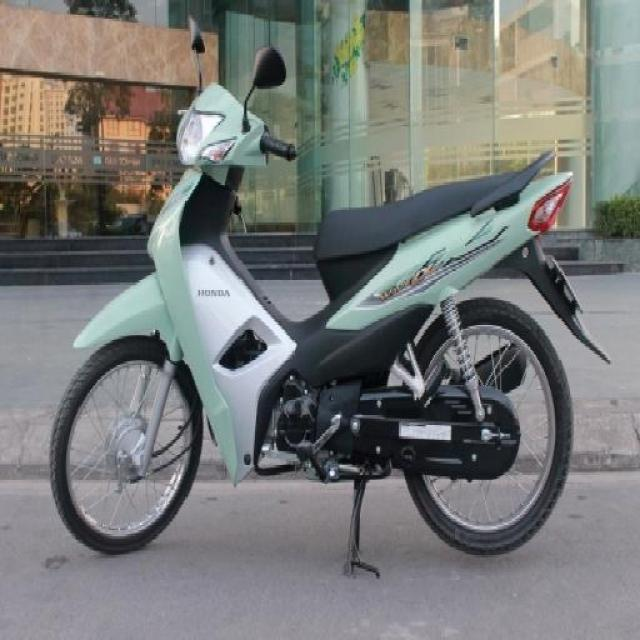All: (48, 79, 617, 554)
Head: (170, 86, 304, 174)
Tail: (502, 152, 581, 234)
